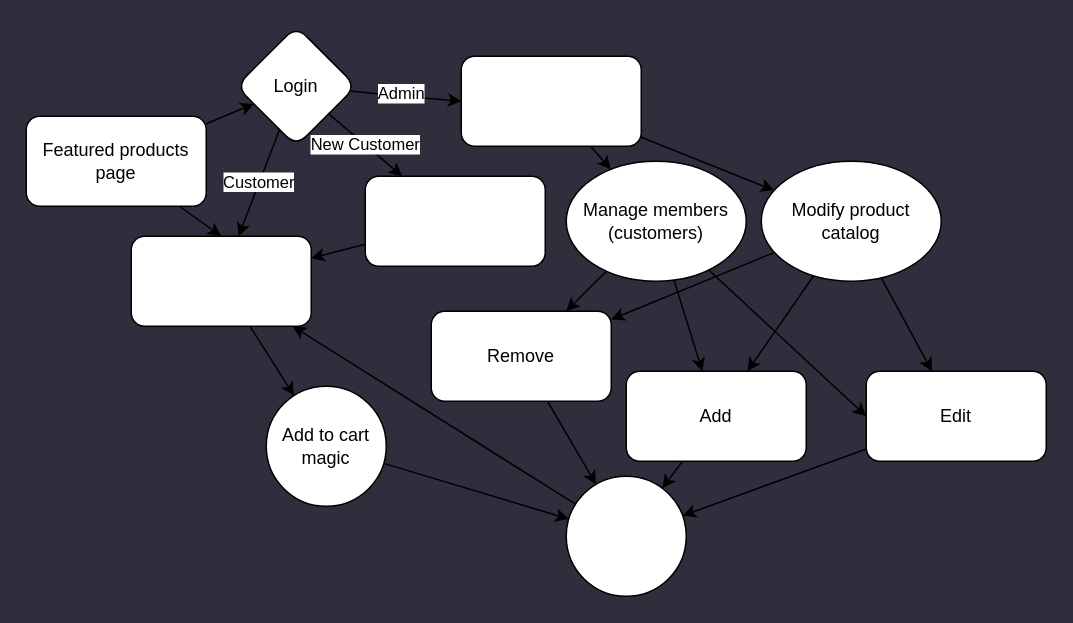
The diagram is 1073 pixels wide and 623 high, and some of its shapes have lost their labels. Here are the shapes that lost their labels. From the top down, the box of each, then its label:
(460, 55, 641, 146): Admin panel
(364, 175, 545, 266): Create account
(130, 235, 311, 326): Products catalog
(565, 475, 686, 596): Database magic
